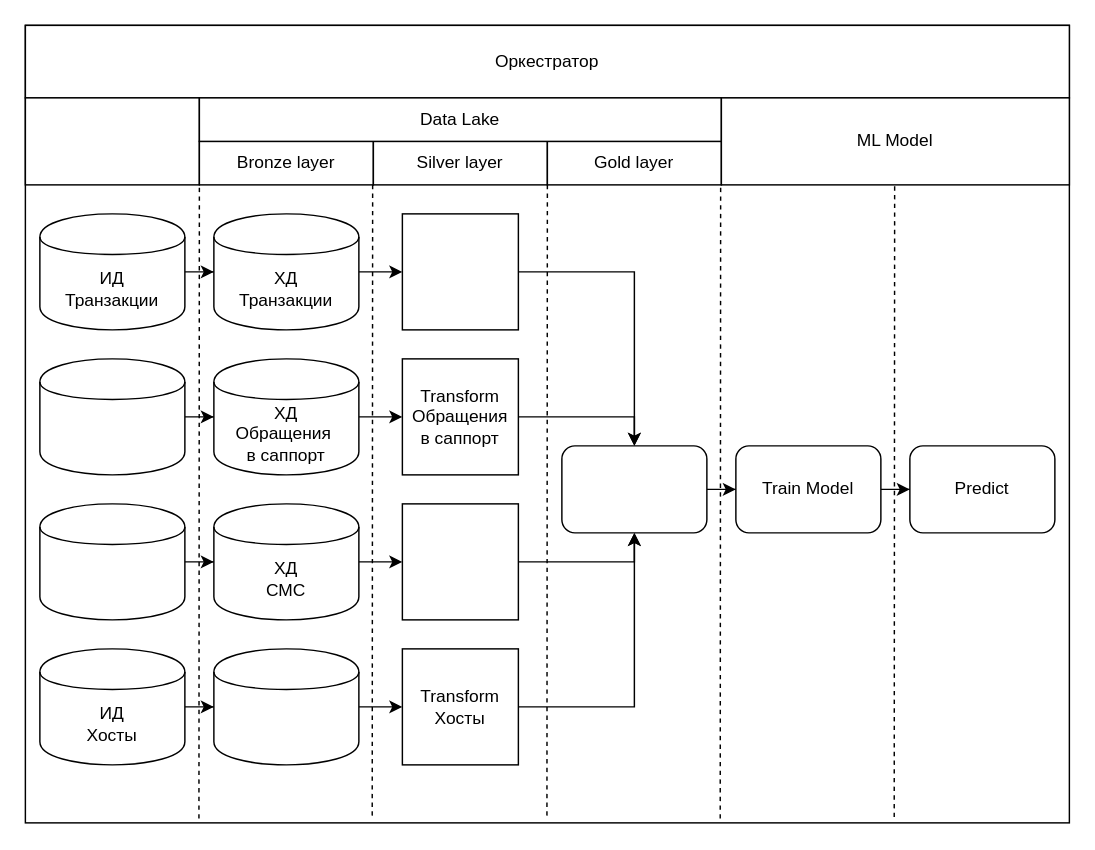
Some shapes in this 1095 by 850 pixel diagram are drawn without their labels. The centre of each missing label's shape, as x and y in pixels:
JOIN DATA: the point at 633,488
Transform СМС: the point at 459,561
Transform Транзакции: the point at 459,271
ИД Обращения в саппорт: the point at 111,416
ИД СМС: the point at 111,561
Источники данных: the point at 111,140
ХД Хосты: the point at 285,706
